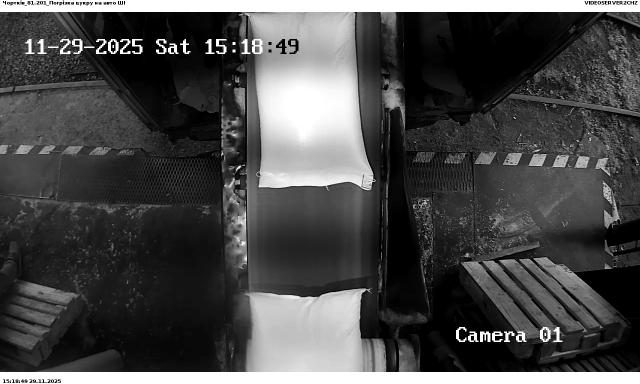bag: (242, 12, 374, 192), (247, 288, 369, 372)
